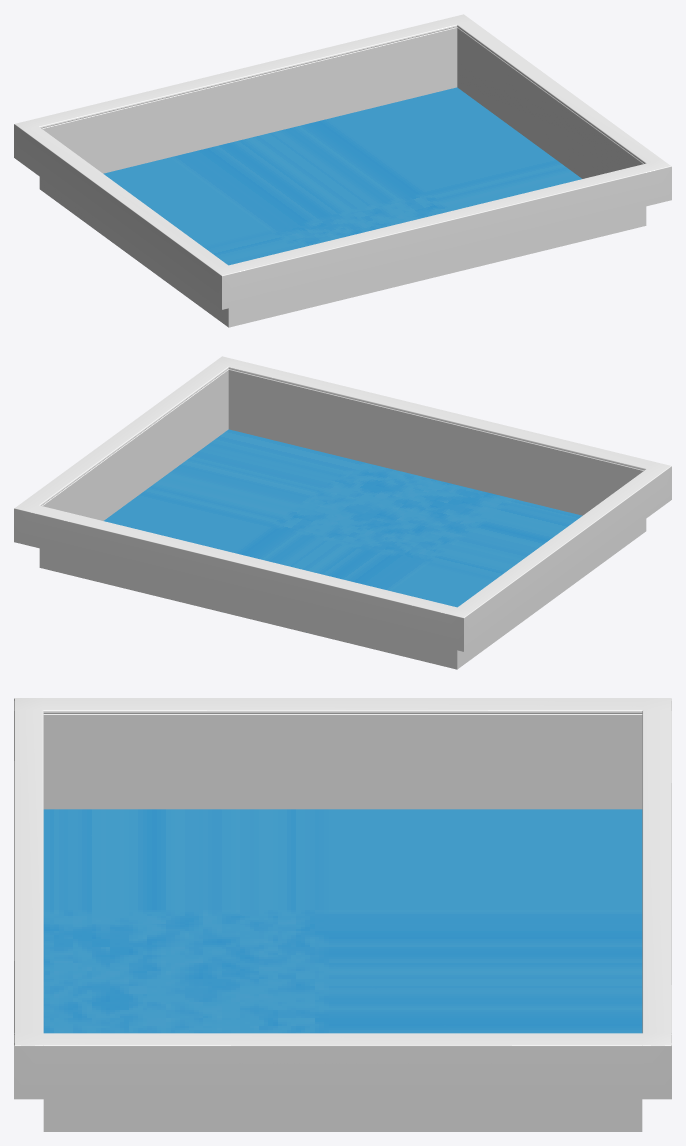
File: objects_un_t09reservoir01.gltf
The picture shows the model from 3 angles, top to bottom: view 1: azimuth 30°, elevation 25°; view 2: azimuth 150°, elevation 25°; view 3: azimuth 270°, elevation 25°; orthographic projection. The views are drawn at different scales.
Parts seen in each view (by area): view 1: objects_un_t09reservoir01, nomerge_objects_un_t09reservoir01_mesh_shape:objects_un_t09r; view 2: objects_un_t09reservoir01, nomerge_objects_un_t09reservoir01_mesh_shape:objects_un_t09r; view 3: objects_un_t09reservoir01, nomerge_objects_un_t09reservoir01_mesh_shape:objects_un_t09r.
Boxes of the visible parts, bbox=[...] form: objects_un_t09reservoir01: bbox=[14, 14, 671, 327]; nomerge_objects_un_t09reservoir01_mesh_shape:objects_un_t09r: bbox=[103, 87, 581, 265]; objects_un_t09reservoir01: bbox=[14, 356, 671, 669]; nomerge_objects_un_t09reservoir01_mesh_shape:objects_un_t09r: bbox=[104, 429, 582, 607]; objects_un_t09reservoir01: bbox=[14, 698, 671, 1131]; nomerge_objects_un_t09reservoir01_mesh_shape:objects_un_t09r: bbox=[43, 809, 642, 1033].
Size of what is drawn, in the model's own units: 11.06 by 1.47 by 8.85.
Materials: 4 (1 with a texture image).
